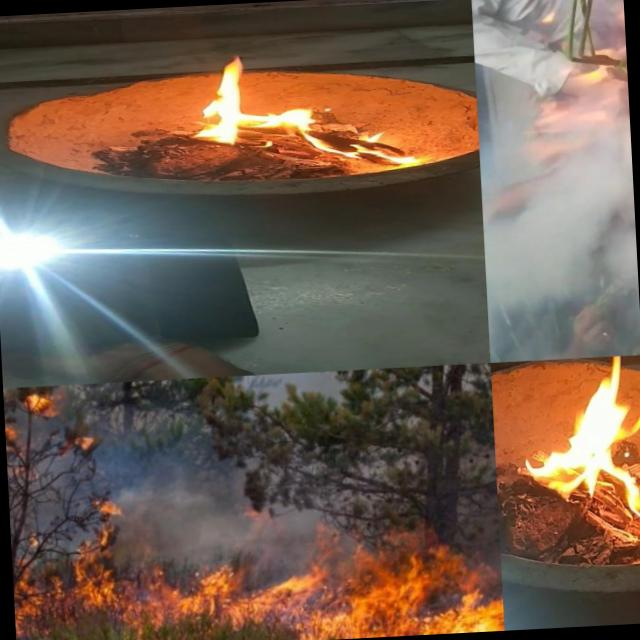fire: (10, 509, 504, 640), (194, 46, 430, 172), (527, 386, 640, 549), (550, 148, 638, 270), (579, 303, 640, 358)
smoke: (471, 0, 558, 363)
